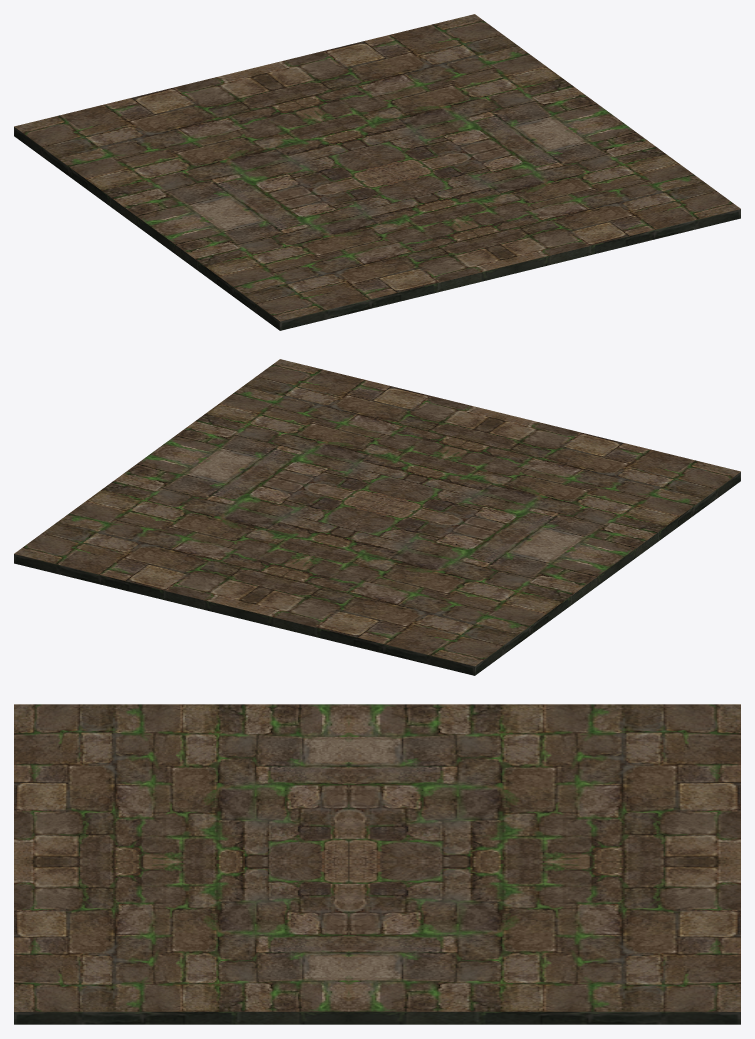
File: Cellar_Level03_L.FBX
3 views of the same model, one above another, from view 1: azimuth 30°, elevation 25°; view 2: azimuth 150°, elevation 25°; view 3: azimuth 270°, elevation 25° (orthographic). The views are drawn at different scales.
Parts seen in each view (by area): view 1: Cellar_Level03_L; view 2: Cellar_Level03_L; view 3: Cellar_Level03_L.
Boxes of the visible parts, bbox=[...] form: Cellar_Level03_L: bbox=[14, 14, 740, 330]; Cellar_Level03_L: bbox=[14, 359, 740, 675]; Cellar_Level03_L: bbox=[14, 704, 740, 1024].
Size of the model in its own units: 374 by 7.47 by 374.
